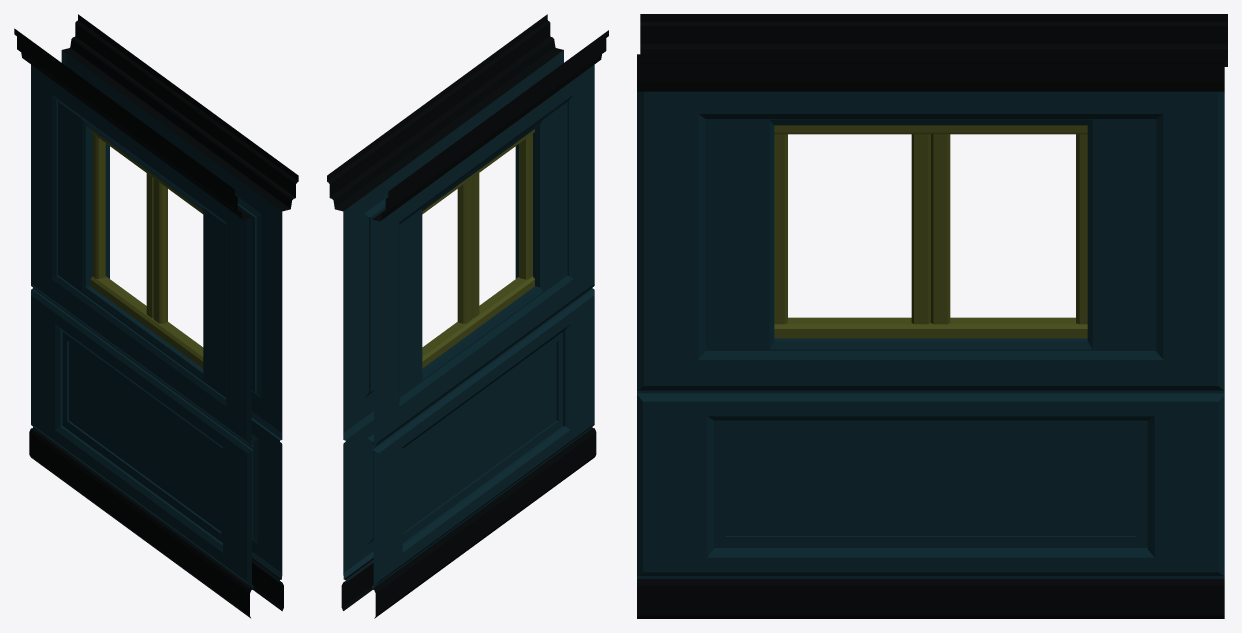
The model's file is SM_Wall_Window.fbx.
The picture shows the model from 3 angles, left to right: view 1: azimuth 30°, elevation 25°; view 2: azimuth 150°, elevation 25°; view 3: azimuth 270°, elevation 25°; orthographic projection. The views are drawn at different scales.
Parts seen in each view (by area): view 1: polySurface135; view 2: polySurface135; view 3: polySurface135.
Boxes of the visible parts, left/top/right/bottom form: polySurface135: left=14, top=14, right=298, bottom=618; polySurface135: left=327, top=14, right=608, bottom=618; polySurface135: left=637, top=14, right=1227, bottom=618.
Bounding box in the file's own units: 48.85 × 324 × 302.
